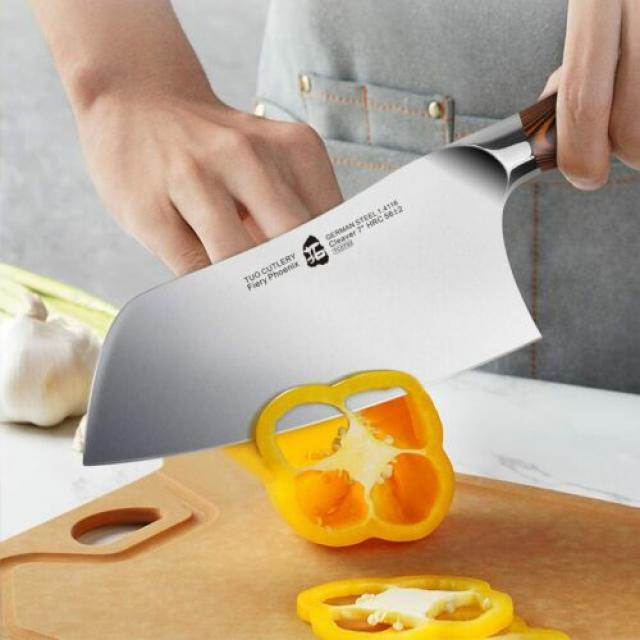cleaver: (74, 0, 640, 468)
